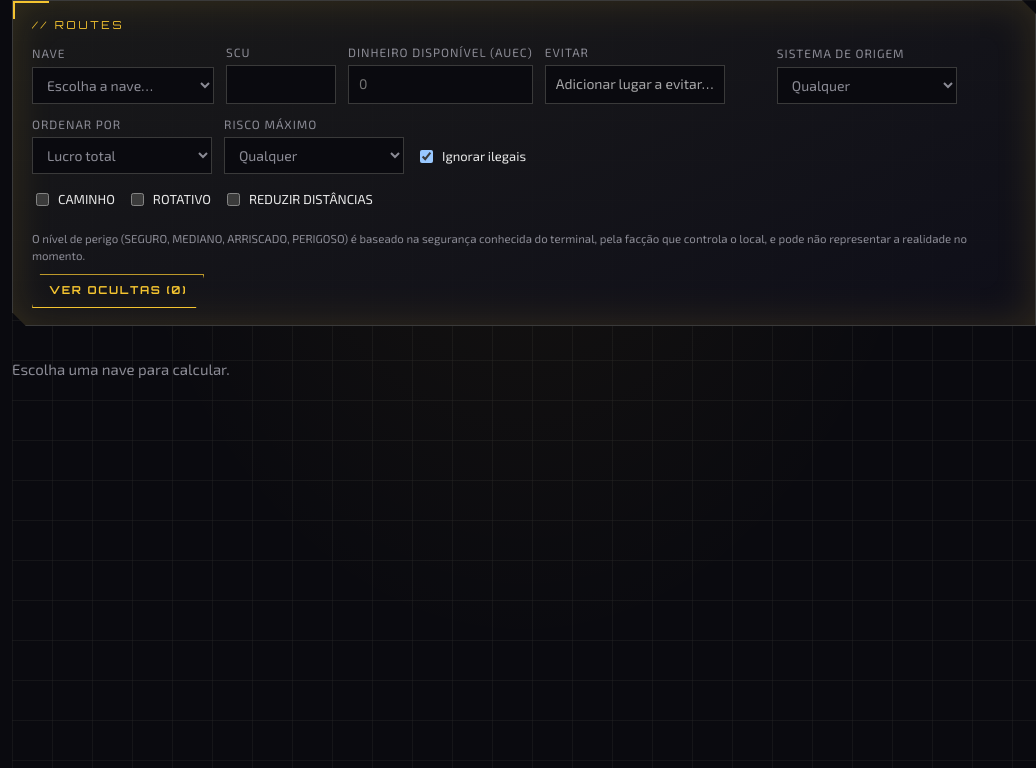
RoutesView › orçamento vazio pede o valor
Select "Caterpillar · 576 SCU" in the dropdown labelled "Nave". click: [123, 85]
box: top-left (32, 67), bottom-right (214, 104)
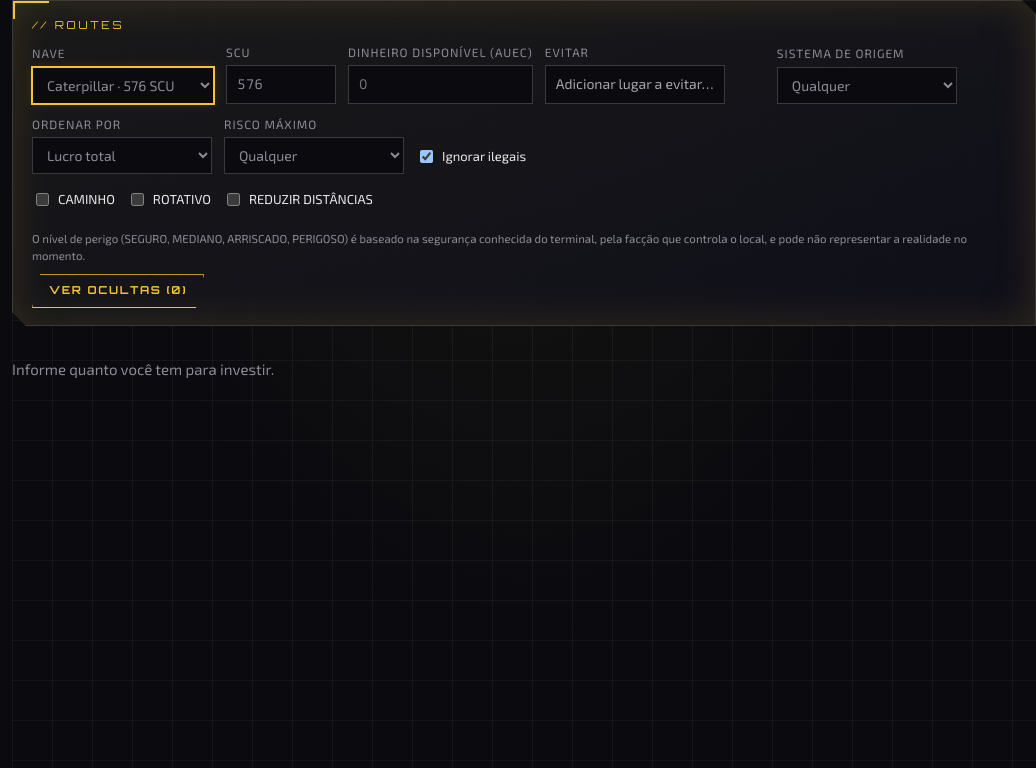
Expected: the text "Informe quanto você tem para investir." is shown, top-left (12, 360), bottom-right (274, 378)
